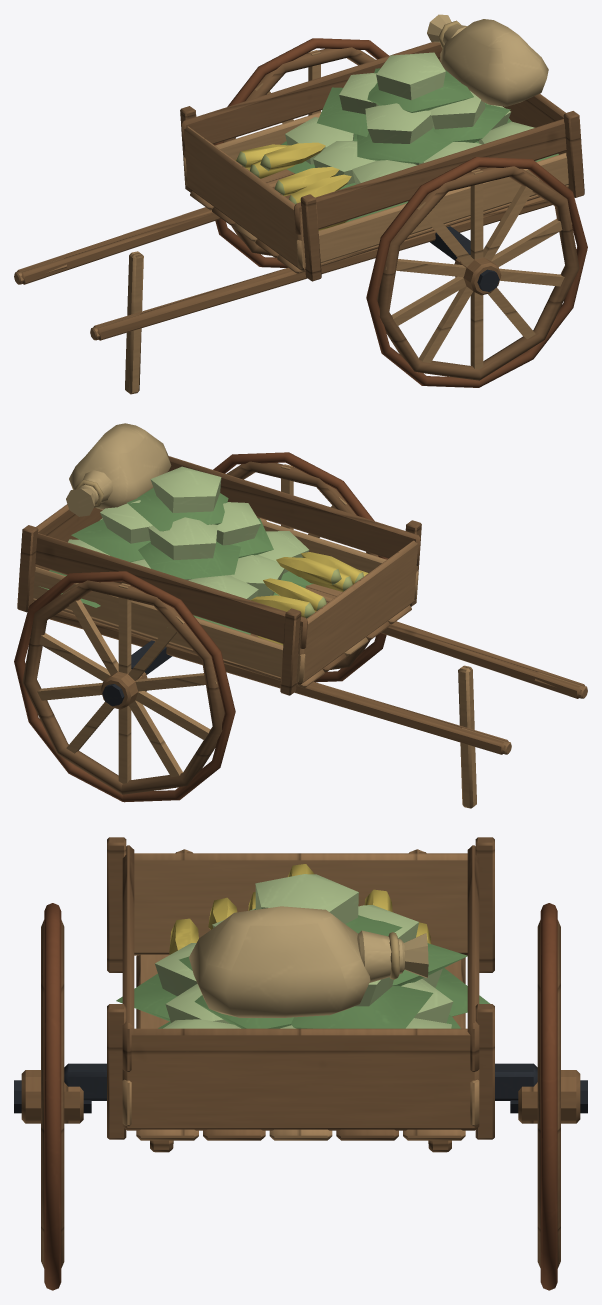
Rendered from crop_cart.glb.
3 renders of one model, top to bottom at view 1: azimuth 30°, elevation 25°; view 2: azimuth 150°, elevation 25°; view 3: azimuth 270°, elevation 25°, orthographic. The views are drawn at different scales.
Visible parts, largest first — view 1: crop_cart; view 2: crop_cart; view 3: crop_cart.
Boxes of the visible parts, box(x1,y1,x2,y2) form: crop_cart: box(14, 14, 587, 394); crop_cart: box(14, 423, 587, 808); crop_cart: box(14, 837, 587, 1290).
Size of the model in its own units: 2.15 by 1.23 by 1.48.
Materials: 17 (17 with a texture image).
